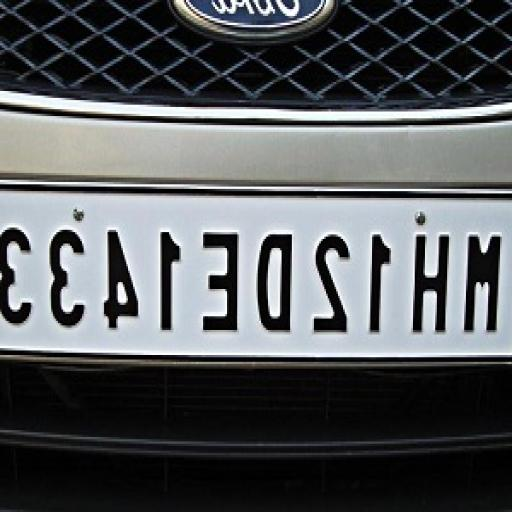License: (0, 190, 511, 336)
